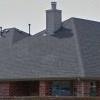Chimney: (40, 1, 63, 35)
